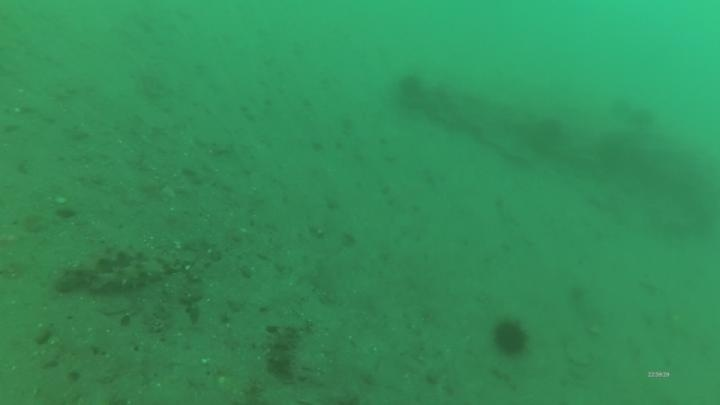echinus: (489, 316, 532, 360), (393, 71, 428, 107)
holothurian: (54, 241, 147, 286), (262, 318, 309, 384), (85, 261, 178, 294)
